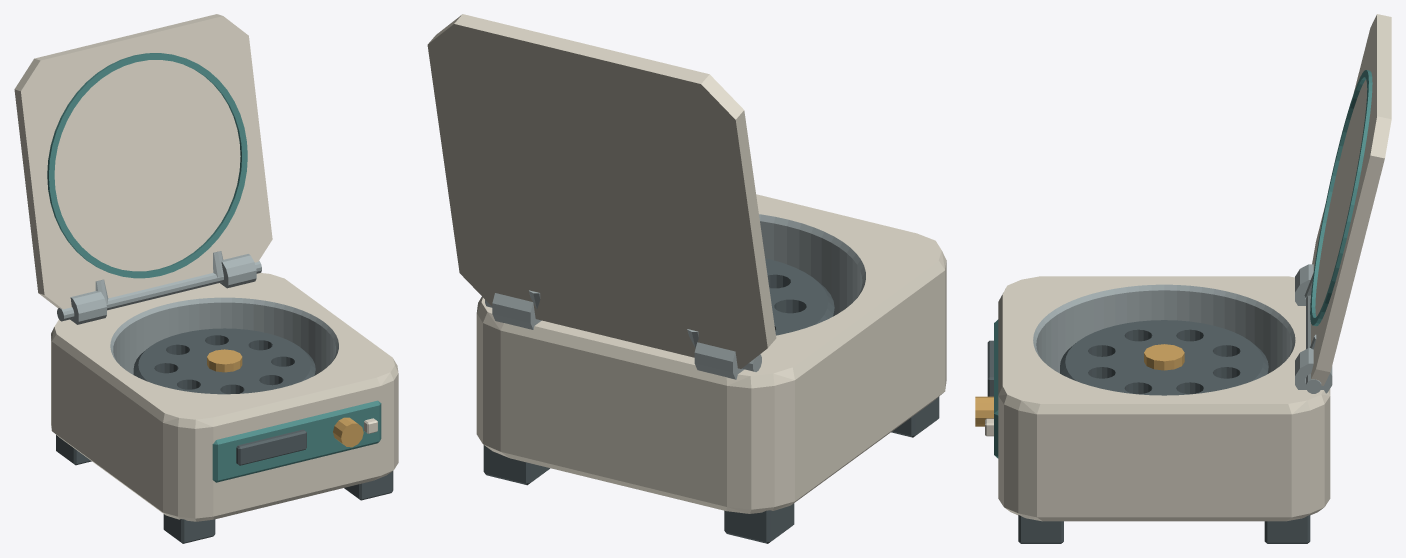
3 renders of one model, left to right at view 1: azimuth 30°, elevation 25°; view 2: azimuth 150°, elevation 25°; view 3: azimuth 270°, elevation 25°, orthographic. The views are drawn at different scales.
Visible parts, largest first — view 1: Lid_FixedOpenCover, Housing_ThickBlindChamber, Rotor_EightBlindWells, Control_FrontPanel, Lid_InsetSealRing, Hinge_FixedPin, Control_BlankDisplay, Foot_LeftFront, Hinge_BoredSupport_Left, Hinge_BoredSupport_Right, Foot_RightFront, Rotor_CentreCap (+2 smaller); view 2: Lid_FixedOpenCover, Housing_ThickBlindChamber, Rotor_EightBlindWells, Foot_LeftRear, Foot_RightRear, Hinge_BoredSupport_Left, Hinge_BoredSupport_Right, Foot_LeftFront; view 3: Housing_ThickBlindChamber, Lid_FixedOpenCover, Rotor_EightBlindWells, Lid_InsetSealRing, Foot_RightRear, Foot_RightFront, Rotor_CentreCap, Hinge_BoredSupport_Right, Control_FrontPanel, Hinge_BoredSupport_Left, Control_FixedDial.
Boxes of the visible parts, x1,y1,x2,y2 form: Lid_FixedOpenCover: [14, 14, 272, 309]; Housing_ThickBlindChamber: [51, 273, 398, 521]; Rotor_EightBlindWells: [133, 328, 315, 394]; Control_FrontPanel: [212, 400, 381, 482]; Lid_InsetSealRing: [47, 53, 247, 278]; Hinge_FixedPin: [57, 261, 261, 321]; Control_BlankDisplay: [236, 429, 306, 465]; Foot_LeftFront: [163, 514, 215, 543]; Hinge_BoredSupport_Left: [70, 291, 106, 324]; Hinge_BoredSupport_Right: [220, 254, 256, 288]; Foot_RightFront: [344, 471, 393, 500]; Rotor_CentreCap: [207, 349, 242, 372]; Lid_FixedOpenCover: [427, 14, 776, 368]; Housing_ThickBlindChamber: [476, 194, 946, 513]; Rotor_EightBlindWells: [765, 258, 834, 335]; Foot_LeftRear: [724, 503, 794, 543]; Foot_RightRear: [483, 445, 549, 485]; Hinge_BoredSupport_Left: [694, 342, 744, 379]; Hinge_BoredSupport_Right: [492, 293, 541, 329]; Foot_LeftFront: [891, 397, 939, 437]; Housing_ThickBlindChamber: [998, 276, 1330, 521]; Lid_FixedOpenCover: [1311, 14, 1391, 385]; Rotor_EightBlindWells: [1060, 320, 1268, 395]; Lid_InsetSealRing: [1310, 70, 1372, 326]; Foot_RightRear: [1264, 515, 1310, 543]; Foot_RightFront: [1018, 515, 1063, 543]; Rotor_CentreCap: [1144, 344, 1184, 370]; Hinge_BoredSupport_Right: [1295, 348, 1332, 393]; Control_FrontPanel: [994, 319, 998, 458]; Hinge_BoredSupport_Left: [1295, 264, 1313, 305]; Control_FixedDial: [975, 396, 993, 426].
Bounding box in the file's own units: 0.58 × 0.8665 × 0.7777.
